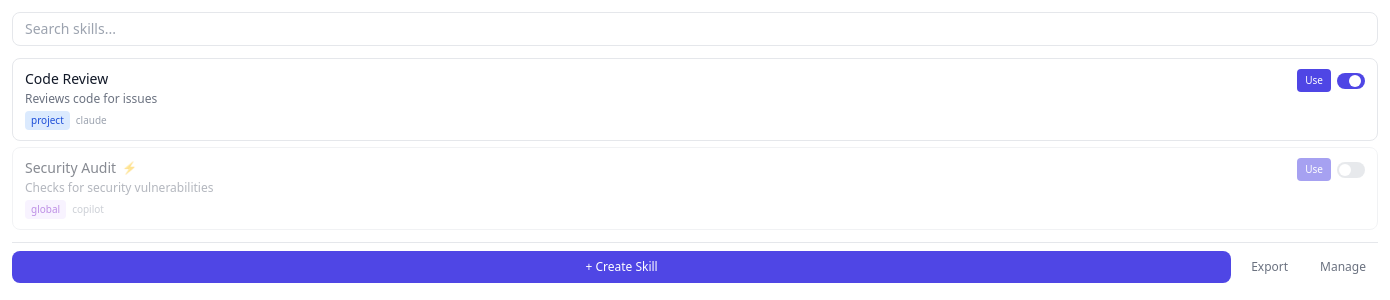
SkillsPanel › filters skills by search
The image size is (1390, 300).
Check: the text "Code Review" is shown, box [25,69,108,89]
In the field with placeholder "Search skills...": coordinates (695, 29) [12,12,1378,46], type "security"
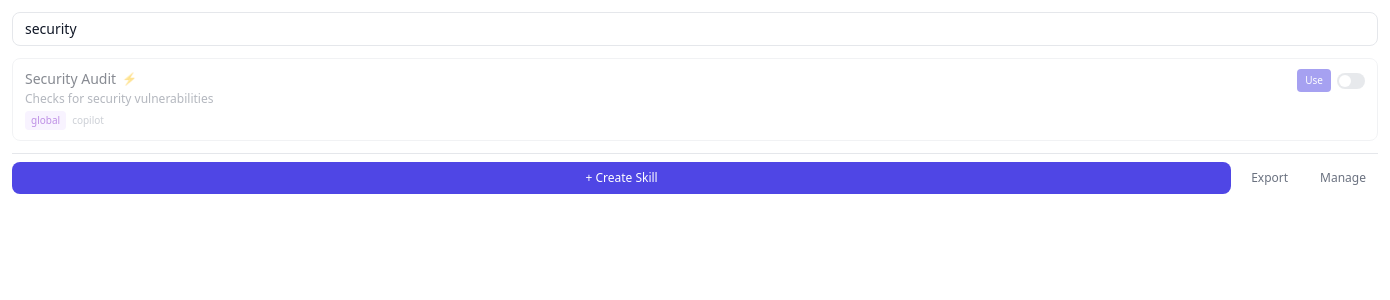
Check: the text "Security Audit" is shown, box [25,69,116,89]
Check: the text "Code Review" is gone
